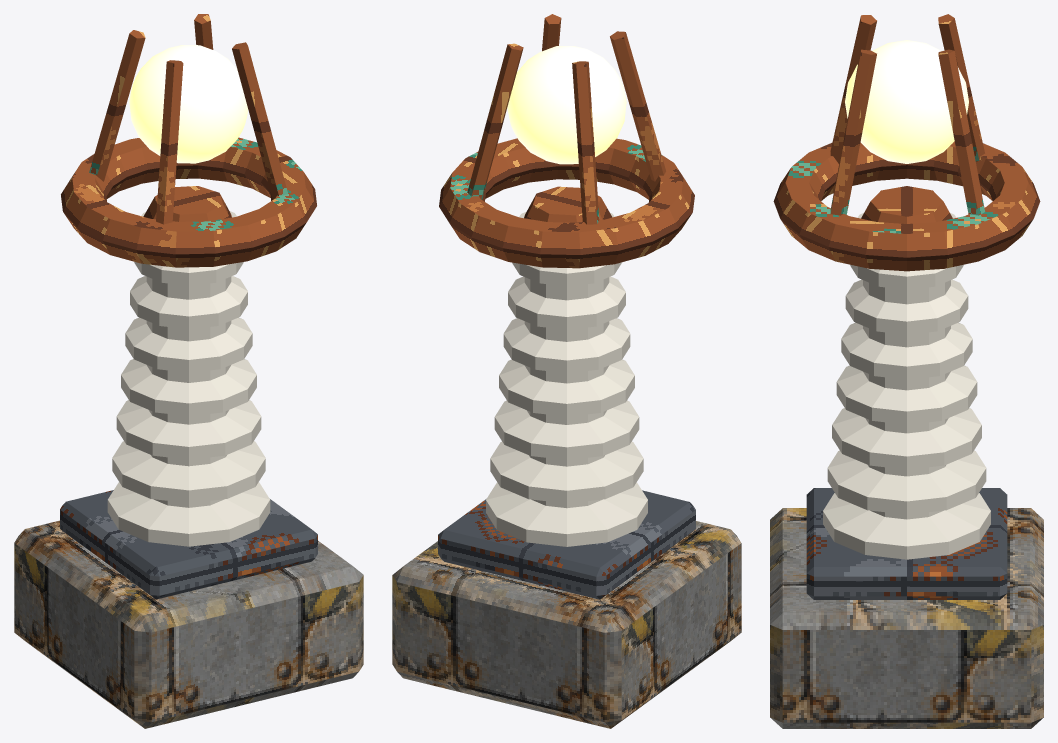
Rendered from storm_coil.glb.
3 views of the same model, side by side, from view 1: azimuth 30°, elevation 25°; view 2: azimuth 150°, elevation 25°; view 3: azimuth 270°, elevation 25° (orthographic). The views are drawn at different scales.
Parts seen in each view (by area): view 1: Base, Insulators, Torus, Plate, Orb, Prongs, Cup; view 2: Base, Insulators, Torus, Plate, Orb, Prongs, Cup; view 3: Base, Insulators, Torus, Plate, Orb, Prongs, Cup.
Boxes of the visible parts, x1,y1,x2,y2 form: Base: (14,520,363,728); Insulators: (107,211,270,546); Torus: (61,137,316,267); Plate: (60,490,317,599); Orb: (129,45,248,163); Prongs: (89,14,288,224); Cup: (143,186,231,221); Base: (392,521,741,728); Insulators: (486,211,647,546); Torus: (439,138,694,268); Plate: (438,490,695,599); Orb: (507,46,626,164); Prongs: (467,14,665,224); Cup: (524,186,612,222); Base: (770,508,1043,728); Insulators: (823,213,990,559); Torus: (773,141,1040,271); Plate: (806,488,1007,599); Orb: (845,40,968,163); Prongs: (830,14,984,215); Cup: (861,186,952,223).
Size of the model in its own units: 1.5 by 3.88 by 1.5.
Materials: 5 (3 with a texture image).
